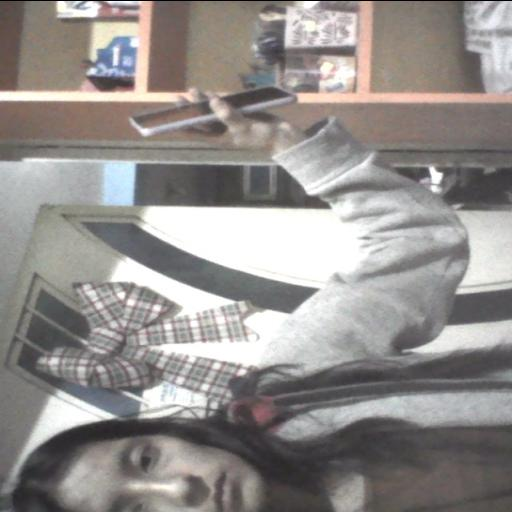phone: (115, 82, 298, 140)
